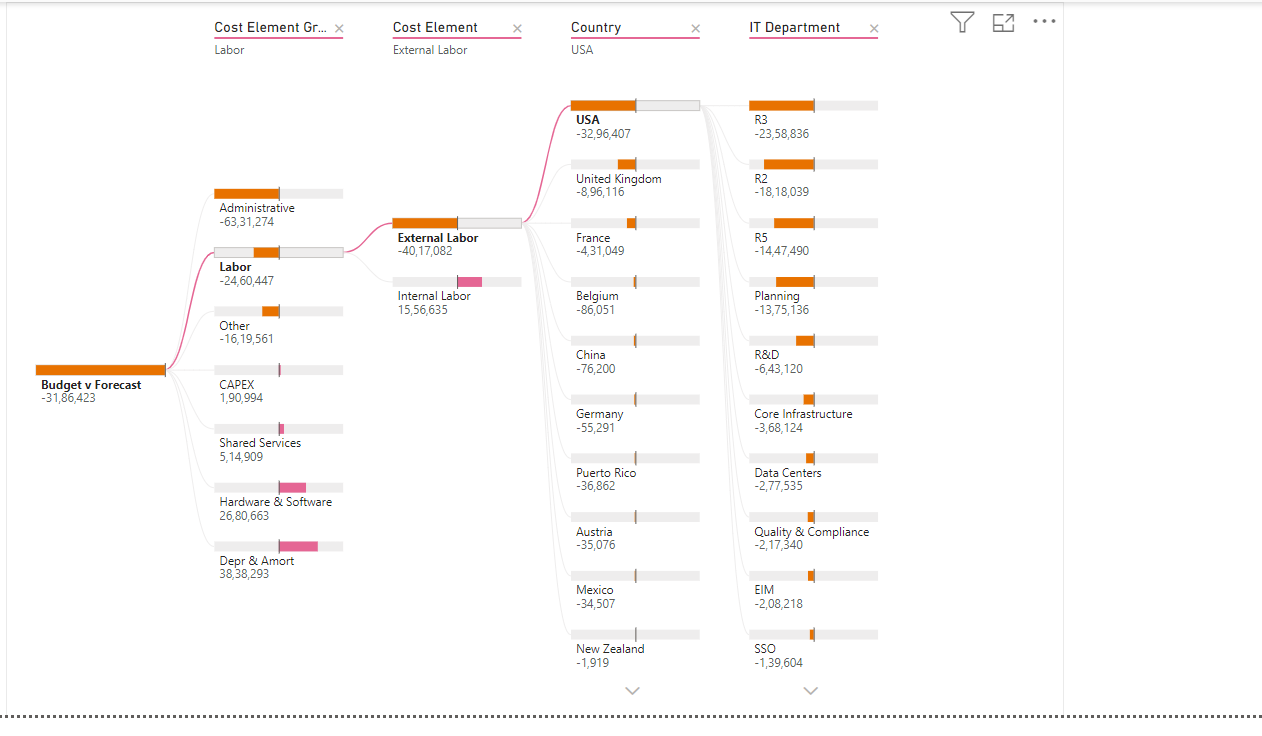

What the dashboard file says about the page in this screenshot:
{"tool":"powerbi","page":{"name":"Decomposition","canvas":[1280,720],"ordinal":2},"visuals":[{"type":"decompositionTreeVisual","fields":{"Analyze":["Budget.Budget v Forecast"],"ExplainBy":["CostElements.Cost Element Group","CostElements.Cost Element","Regions.Country","Departments.IT Department"]},"box":[9.7,0,1067.5,720.2],"z":0}]}

Visuals, with their boxes on the page's 1280x720 design canvas (x1, y1, x2, y2). These are canvas units, not pixel positions in the 1262x736 screenshot, which may show the page scaled, cropped or inside an application window:
decompositionTreeVisual - Budget.Budget v Forecast x CostElements.Cost Element Group: [left=10, top=0, right=1077, bottom=720]
